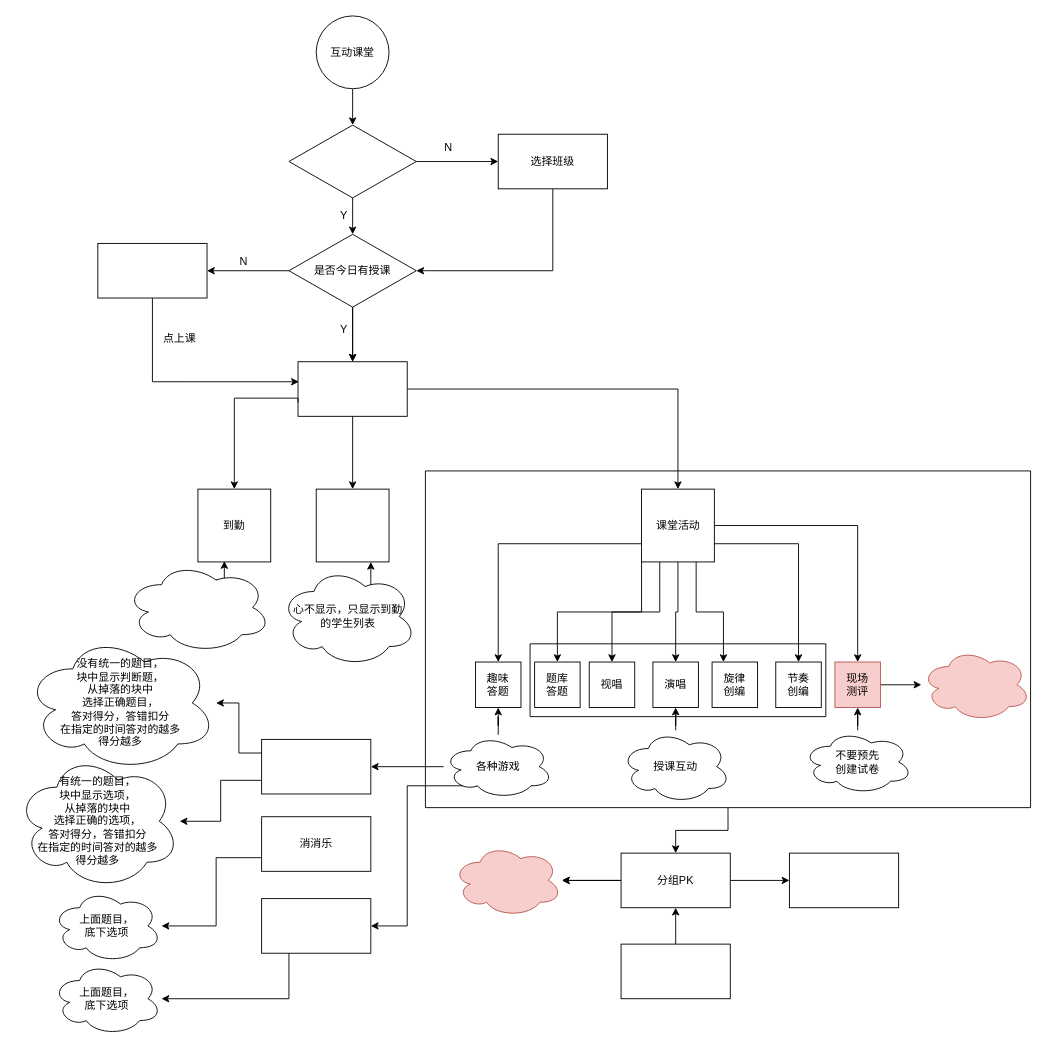
This 1047x1051 diagram has some shape labels left out. The centre of each missing label's shape, as x and y in pixels:
"PK结果如何体现" goes at point 507,880.
"互动主页" goes at point 352,388.
"传统答案的方式" goes at point 316,925.
"全是老师 评分怎么pk？" goes at point 975,684.
"头像上星号不显示" goes at point 197,607.
"开始上课" goes at point 152,270.
"掉落的方式" goes at point 316,766.
"是否已选班级" goes at point 352,161.
"活跃度排行" goes at point 844,880.
"组队" goes at point 675,971.
"课堂表现" goes at point 352,525.
